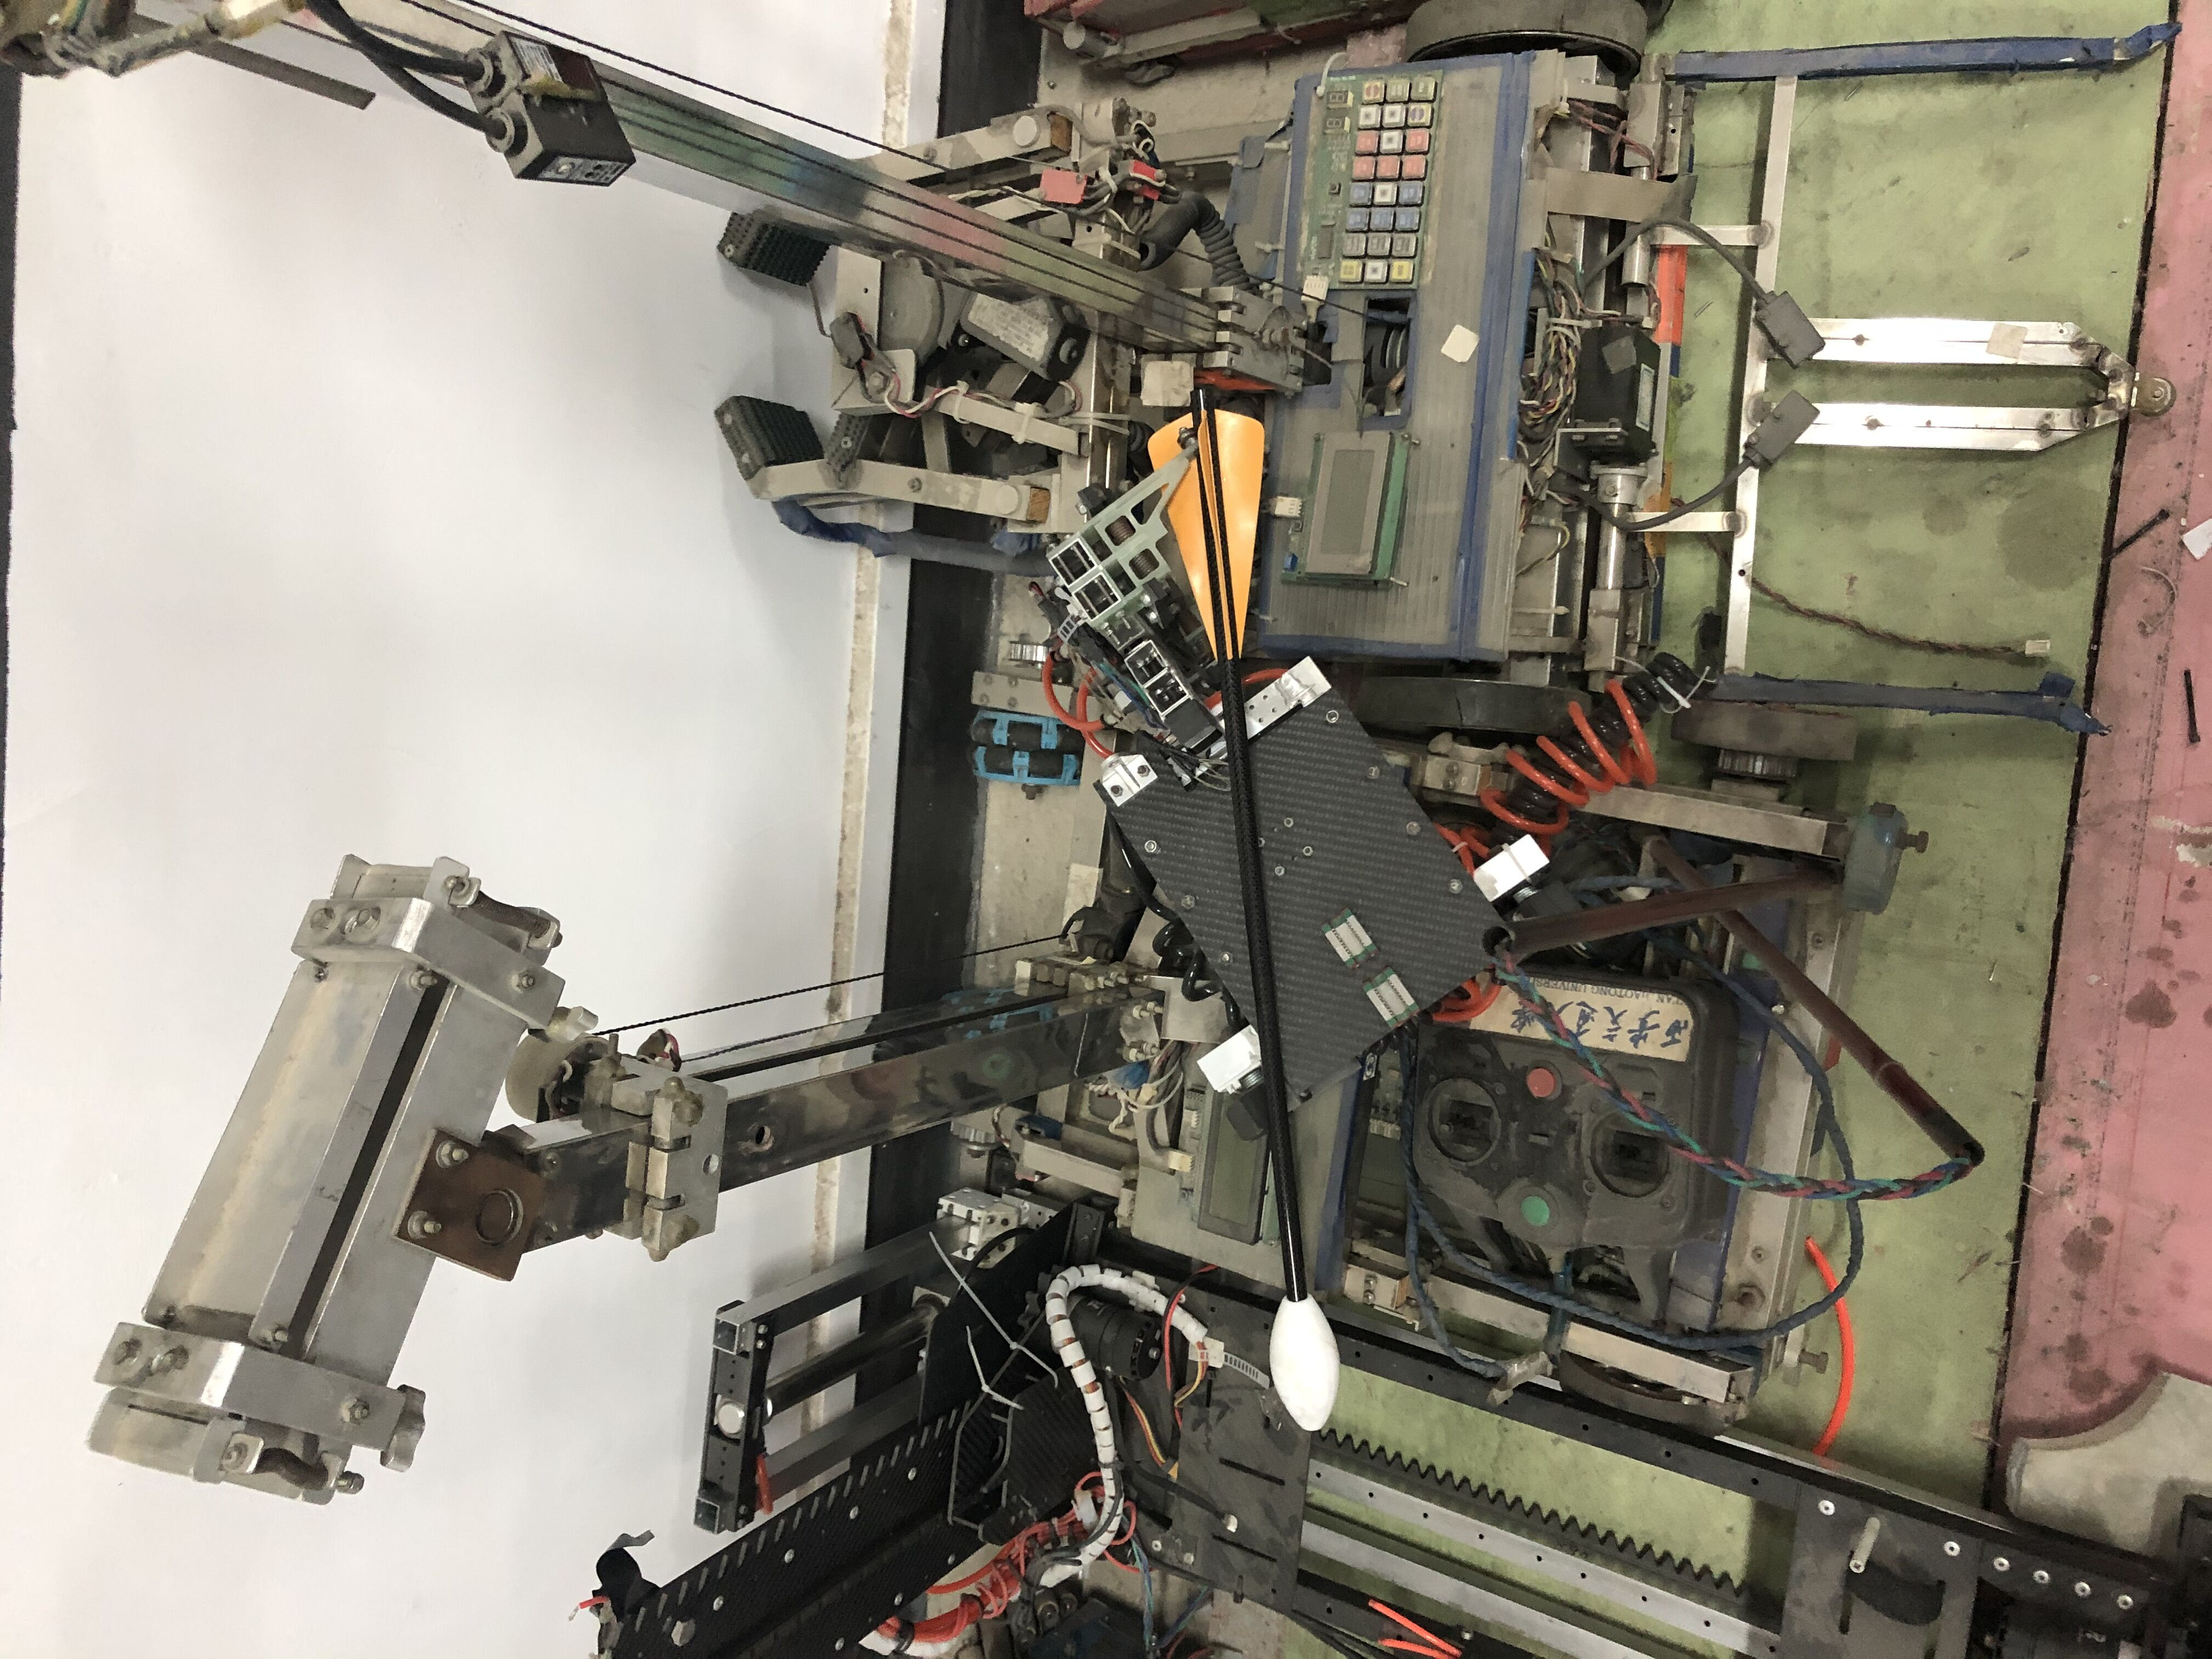arrow: (1143, 376, 1348, 1443)
arrowFront: (1263, 1293, 1341, 1434)
